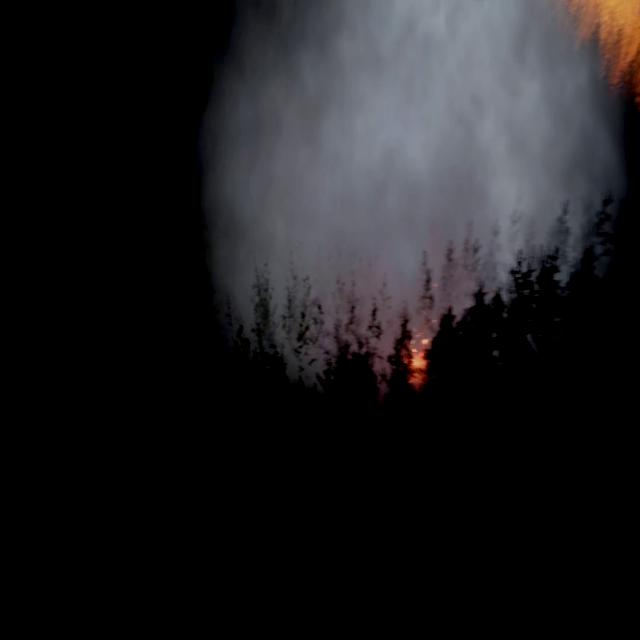fire: (571, 0, 639, 83), (400, 319, 431, 381)
smoke: (183, 0, 640, 349)
